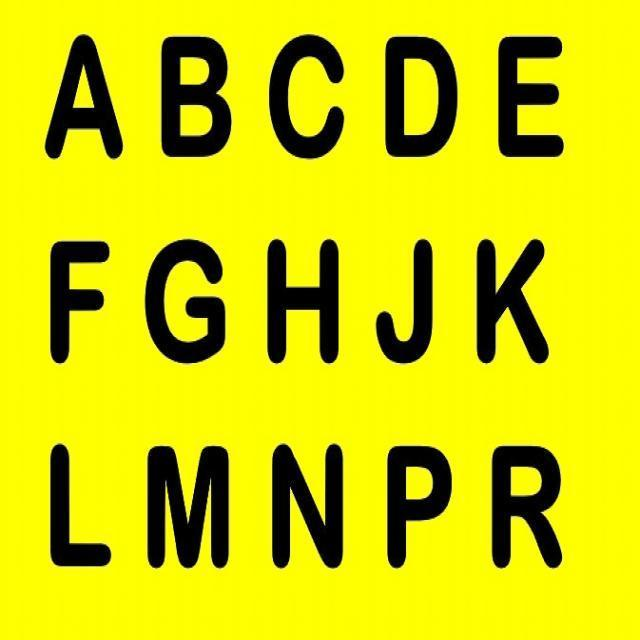A: (35, 30, 128, 164)
B: (152, 30, 238, 163)
C: (263, 30, 348, 163)
D: (375, 34, 468, 168)
E: (491, 33, 571, 164), (45, 236, 111, 363)
G: (143, 232, 231, 368)
H: (257, 235, 348, 371)
J: (371, 238, 442, 372)
K: (469, 234, 555, 374)
L: (36, 438, 114, 570)
M: (140, 440, 238, 572)
N: (261, 442, 351, 572)
P: (377, 440, 458, 574)
R: (481, 438, 571, 575)
